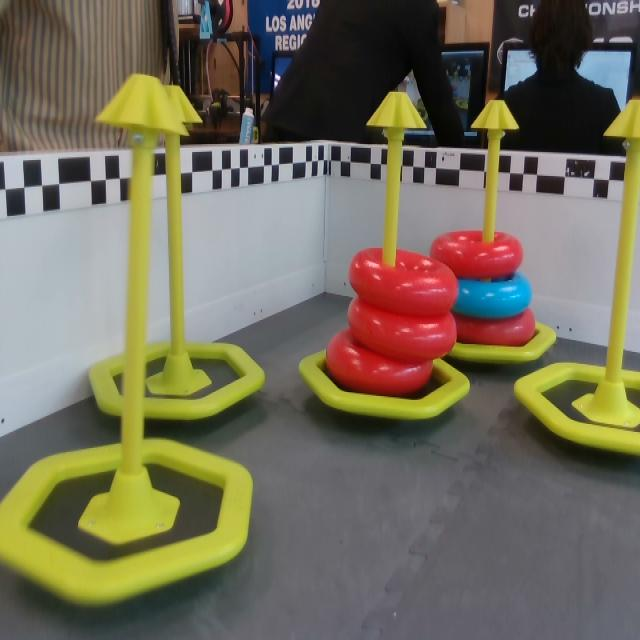Blue-Ring: (455, 273, 534, 322)
Mobile-Goal: (0, 75, 257, 613), (85, 83, 275, 428), (296, 90, 480, 424), (510, 95, 639, 456), (434, 101, 560, 363)
Red-Ring: (346, 244, 456, 321), (324, 330, 434, 394), (347, 304, 461, 361), (434, 229, 529, 282), (454, 307, 542, 348)
Yellow-Stake-Head: (96, 74, 191, 140), (367, 91, 428, 129), (470, 99, 520, 130), (603, 98, 640, 138), (166, 84, 202, 124)
